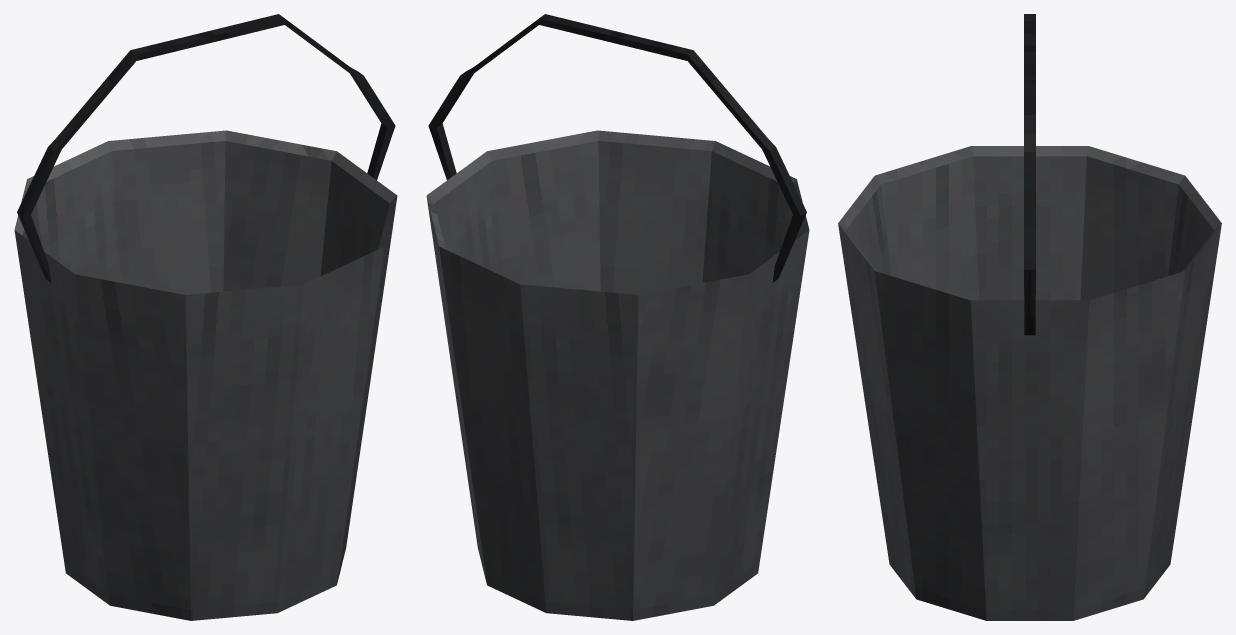
File: bucket.glb
3 views of the same model, side by side, from view 1: azimuth 30°, elevation 25°; view 2: azimuth 150°, elevation 25°; view 3: azimuth 270°, elevation 25° (orthographic).
Parts seen in each view (by area): view 1: Cylinder.002; view 2: Cylinder.002; view 3: Cylinder.002.
Boxes of the visible parts, x1,y1,x2,y2 form: Cylinder.002: (14,14,397,620); Cylinder.002: (426,14,809,620); Cylinder.002: (838,14,1221,620).
Size of the model in its own units: 2.01 by 2.71 by 1.83.
1 material, 1 textured.
